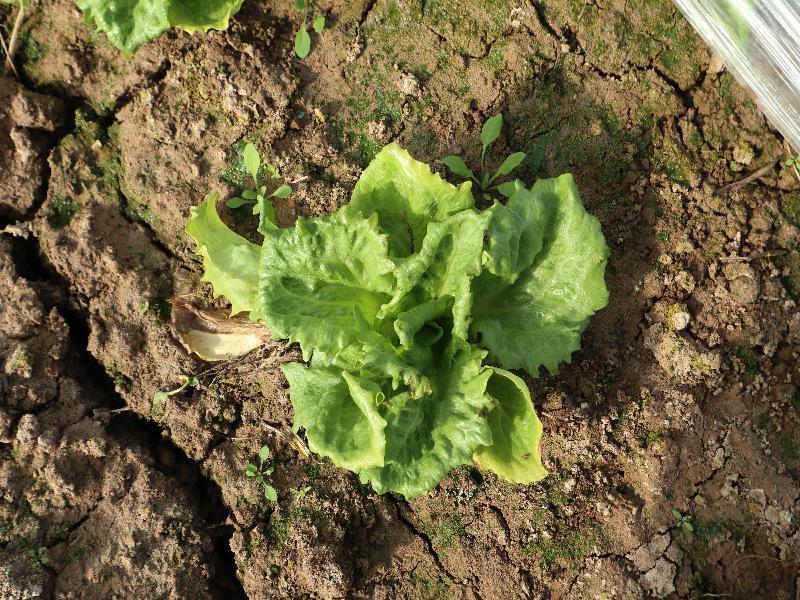lettuce: (183, 140, 614, 498)
